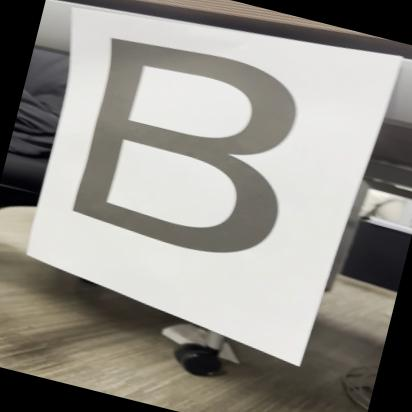seat: (38, 20, 350, 291)
